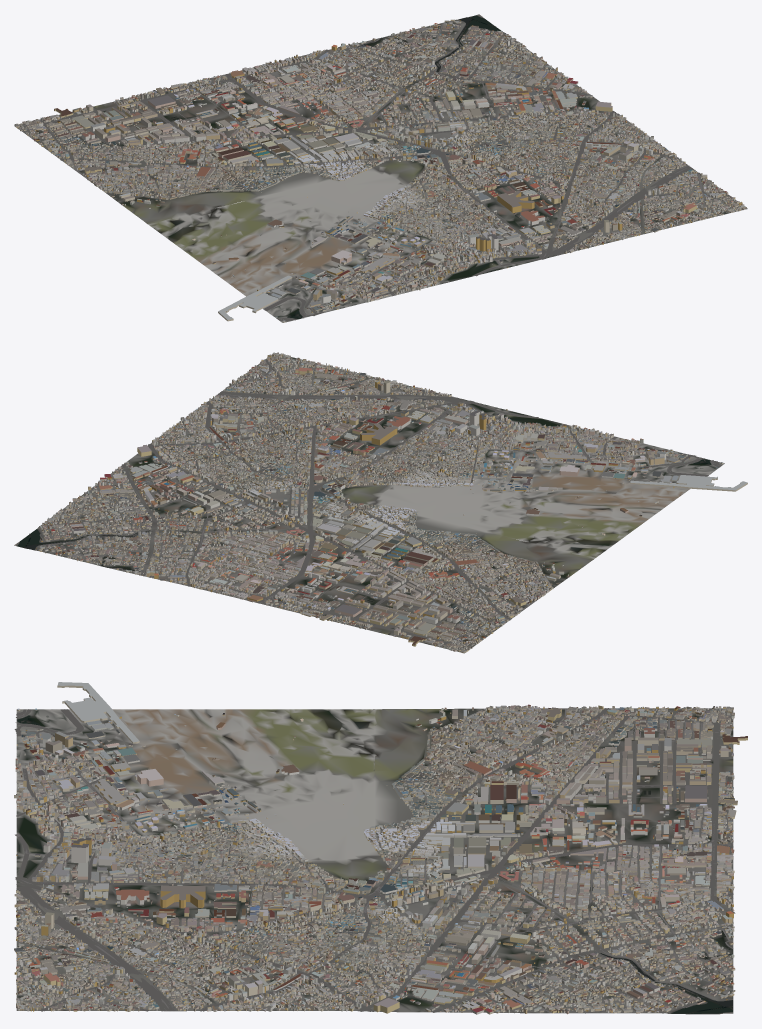
3 views of the same model, one above another, from view 1: azimuth 30°, elevation 25°; view 2: azimuth 150°, elevation 25°; view 3: azimuth 270°, elevation 25° (orthographic). The views are drawn at different scales.
Parts seen in each view (by area): view 1: buildings, ground, roads, water; view 2: buildings, ground, roads, water; view 3: buildings, ground, roads, water.
Part boxes in pixels (left/top/right/bottom): buildings: left=14, top=19, right=746, bottom=322; ground: left=14, top=14, right=747, bottom=322; roads: left=19, top=22, right=737, bottom=321; water: left=171, top=15, right=501, bottom=318; buildings: left=36, top=352, right=747, bottom=653; ground: left=14, top=353, right=724, bottom=653; roads: left=39, top=358, right=721, bottom=652; water: left=17, top=459, right=711, bottom=601; buildings: left=14, top=682, right=747, bottom=1014; ground: left=16, top=708, right=733, bottom=1014; roads: left=14, top=708, right=735, bottom=1013; water: left=17, top=715, right=732, bottom=1014.
Size of the model in its own units: 3055 by 81.48 by 2869.
